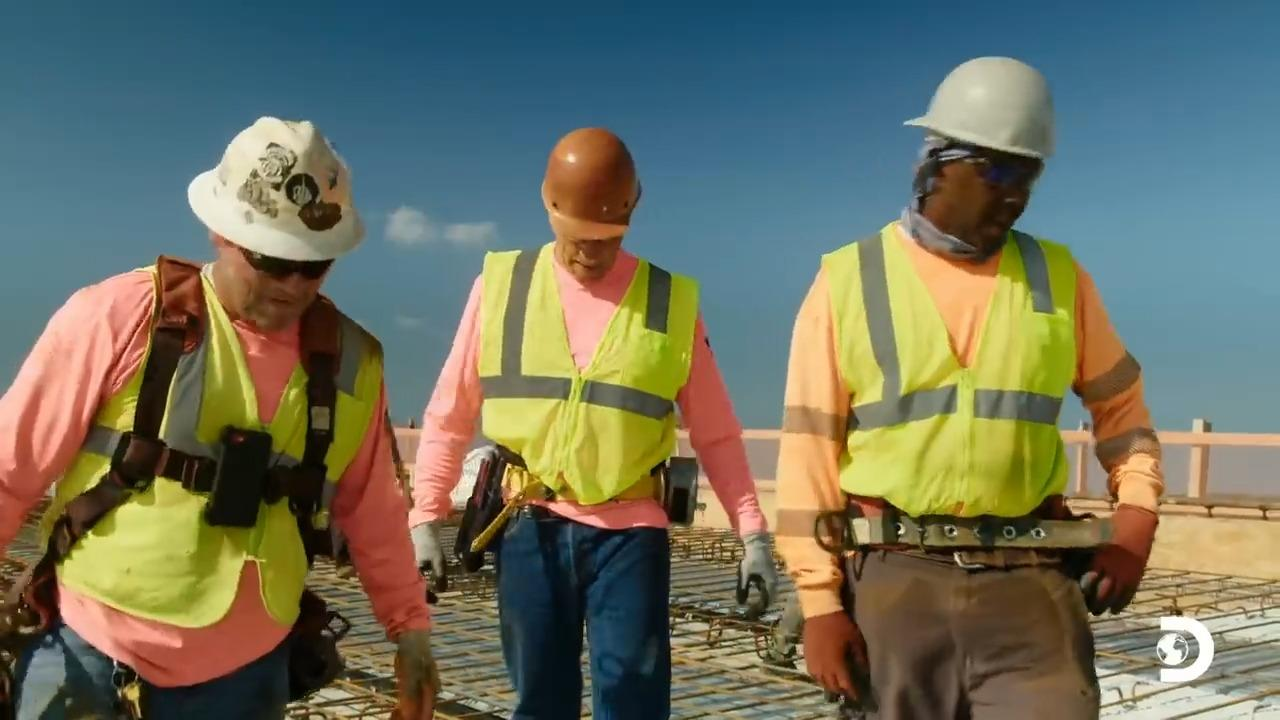Gloves: (1083, 524, 1170, 614), (793, 613, 866, 695), (388, 633, 452, 714), (726, 534, 780, 626), (401, 514, 457, 595)
Helmet: (186, 115, 365, 262), (520, 113, 657, 266), (902, 55, 1055, 160)
Person: (0, 115, 442, 719), (772, 54, 1165, 719), (405, 125, 777, 719)
Safety Vest: (76, 335, 335, 592), (844, 251, 1048, 543), (481, 281, 667, 504)
